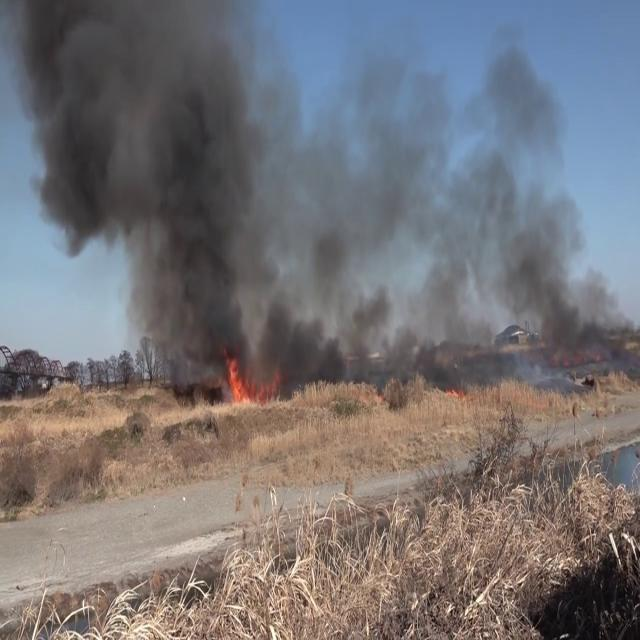Fire: (219, 344, 281, 410), (218, 344, 260, 410)
Smoke: (286, 21, 638, 376), (2, 0, 301, 380)
